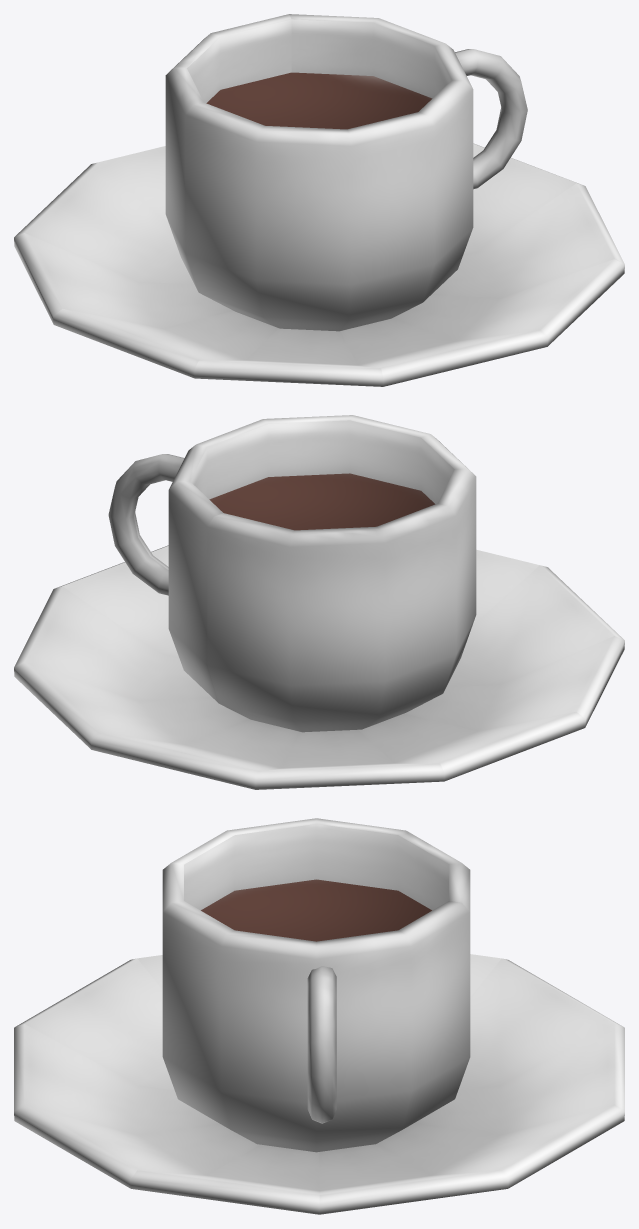
File: TianZhuJiaoTang_01_kafeibei_01.FBX
3 views of the same model, one above another, from view 1: azimuth 30°, elevation 25°; view 2: azimuth 150°, elevation 25°; view 3: azimuth 270°, elevation 25° (orthographic). The views are drawn at different scales.
Visible parts, largest first — view 1: TianZhuJiaoTang_01_kafeibei_01; view 2: TianZhuJiaoTang_01_kafeibei_01; view 3: TianZhuJiaoTang_01_kafeibei_01.
Boxes of the visible parts, x1,y1,x2,y2 form: TianZhuJiaoTang_01_kafeibei_01: (14, 14, 624, 386); TianZhuJiaoTang_01_kafeibei_01: (14, 415, 624, 789); TianZhuJiaoTang_01_kafeibei_01: (14, 818, 624, 1214).
Size of the model in its own units: 75.63 by 31.25 by 71.93.
